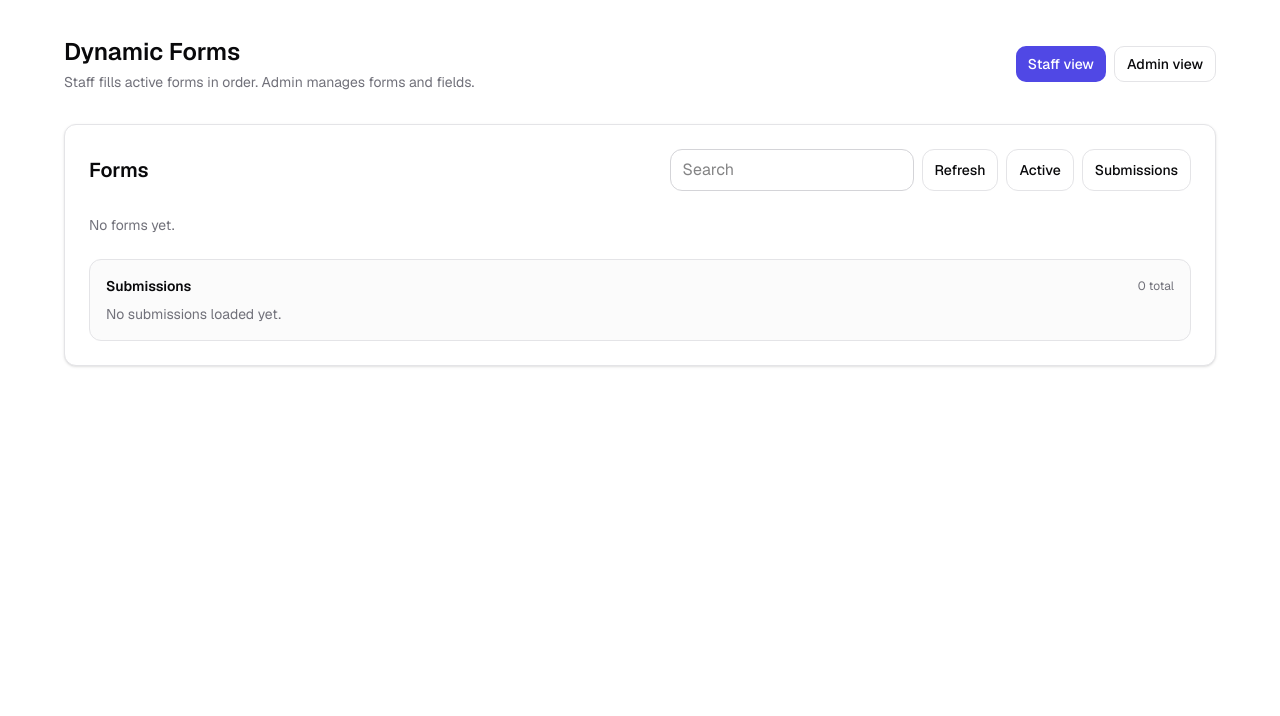
Test: FormsPageClient › creates a form through the API and refreshes the list
Click the button "Admin view" at [1165, 64], box 1114,46 -> 1216,82
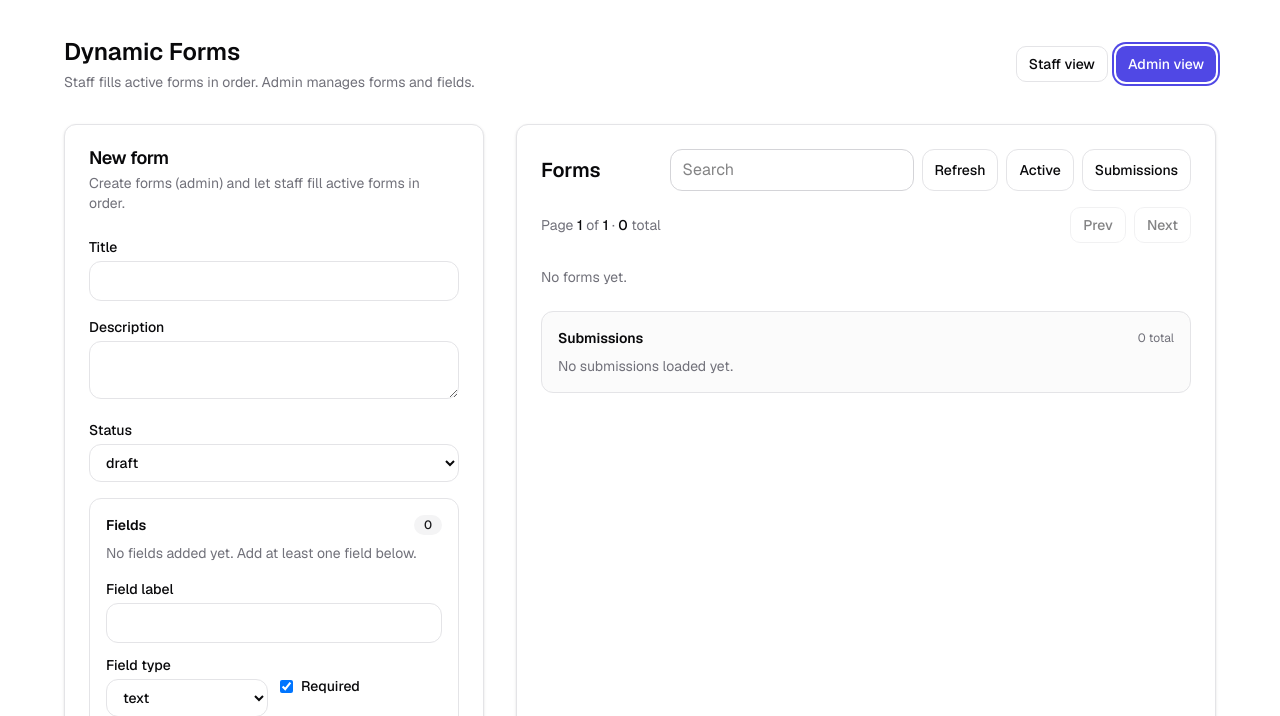
Type "Onboarding" into the field labelled "Title" at [274, 281], box 89,261 -> 459,301
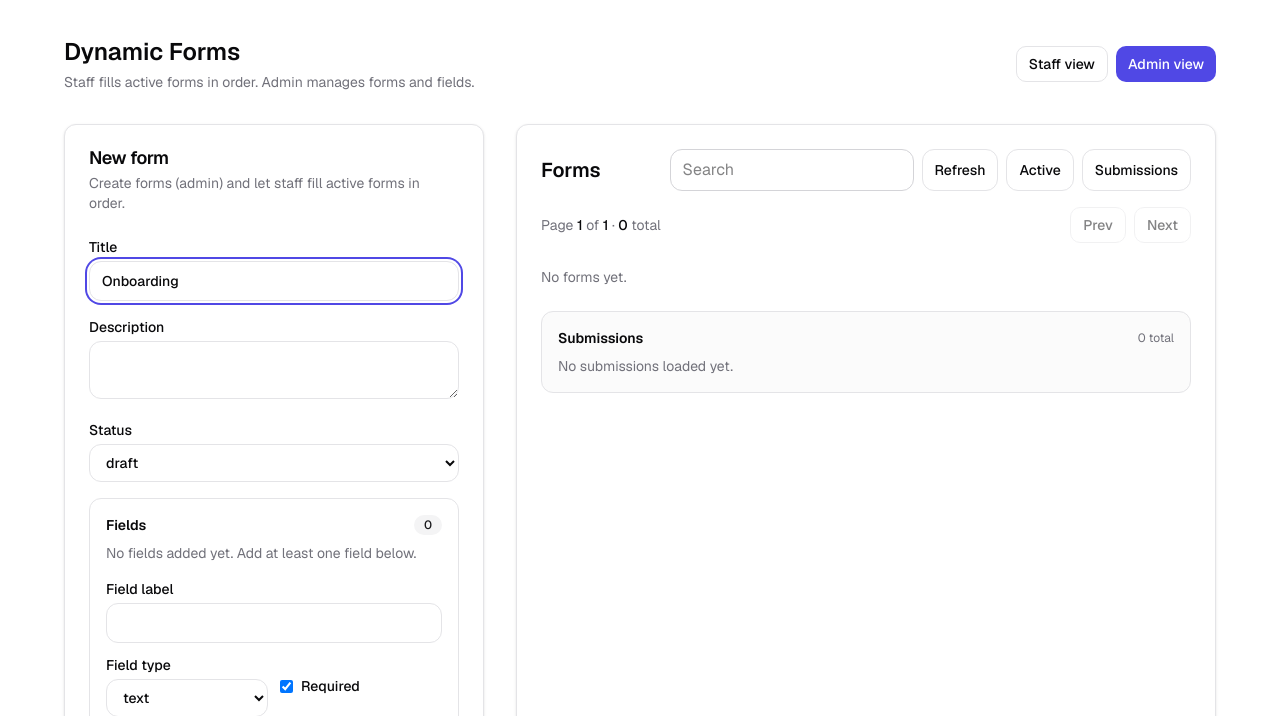
Type "Name" into the field labelled "Field label" at [274, 623], box 106,603 -> 442,643
(page scrolled)
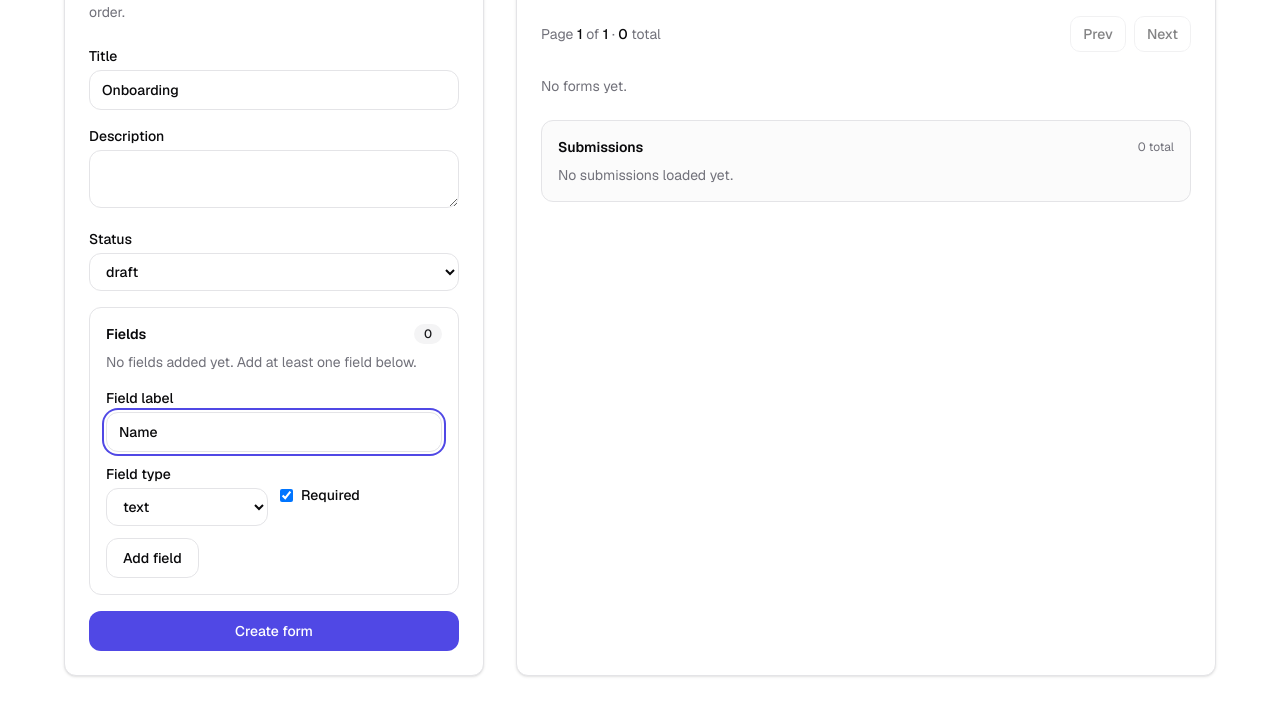
Click the button "Create form" at [274, 631], box 89,611 -> 459,651
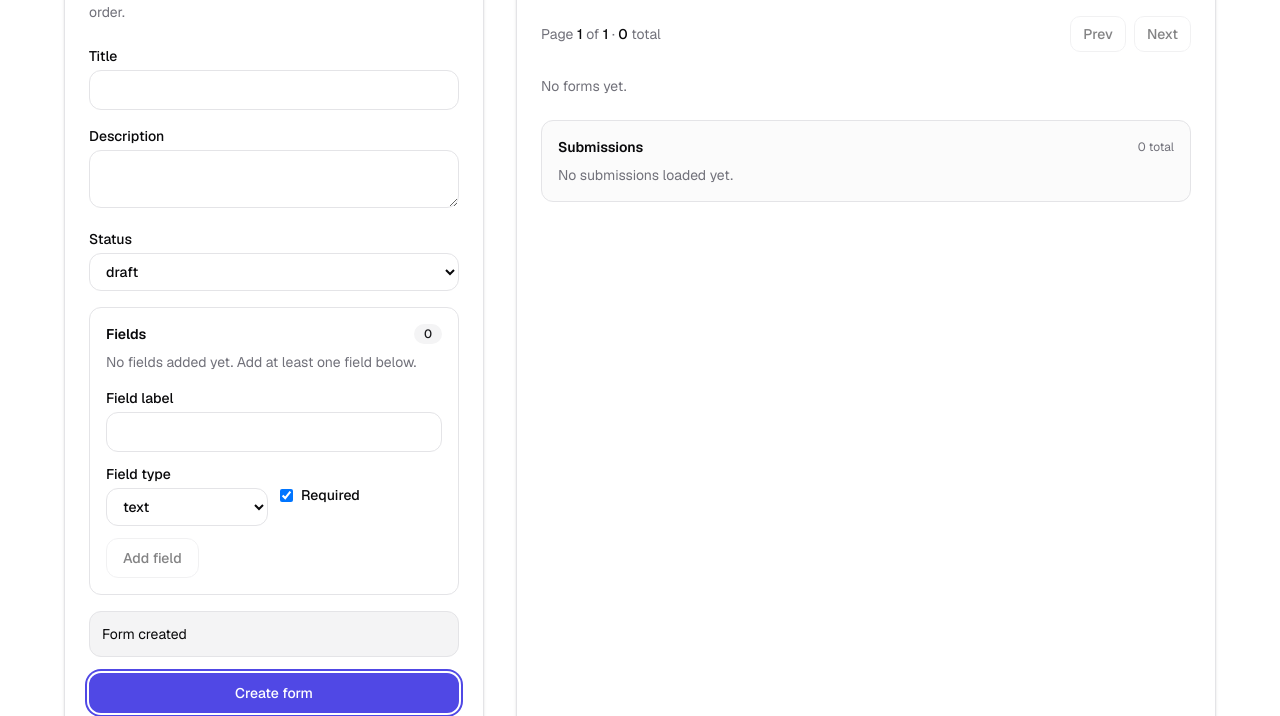
Expected: the text "Form created" is shown, 89,611 -> 459,657
